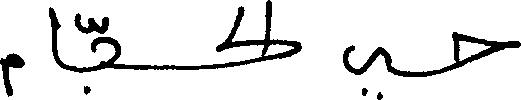X: (218, 0, 297, 72), (454, 27, 520, 73), (343, 40, 389, 99), (91, 12, 117, 75), (0, 48, 21, 99), (49, 2, 58, 69)
